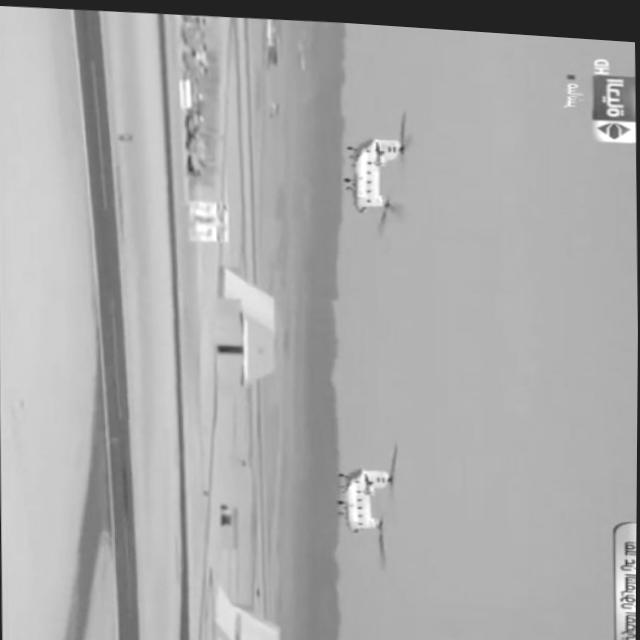helikopter: (318, 99, 437, 233), (311, 435, 412, 556)
